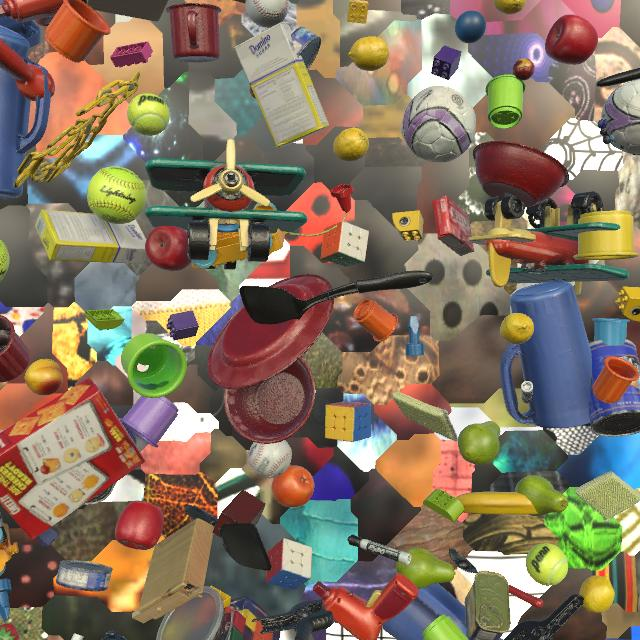ycb_002_master_chef_can: (589, 339, 640, 437), (85, 425, 136, 505)
ycb_003_cracker_box: (0, 377, 145, 540)
ycb_004_sugar_box: (234, 23, 329, 147), (35, 209, 147, 264)
ycb_007_tuna_fish_can: (56, 560, 113, 591), (291, 27, 321, 71)
ycb_009_gelatin_box: (432, 196, 474, 256)
ycb_010_potted_meat_can: (465, 570, 511, 640), (82, 0, 87, 4)
ycb_011_banana: (456, 492, 553, 514)
ycb_012_strawberry: (0, 623, 19, 640)
ycb_013_apple: (545, 14, 598, 65), (115, 500, 164, 550), (145, 226, 192, 271)
ycb_014_lemon: (348, 36, 389, 71), (579, 575, 615, 613), (333, 128, 369, 162), (500, 313, 534, 345), (493, 0, 526, 15)
ycb_015_peach: (25, 359, 63, 395)
ycb_016_pear: (396, 547, 456, 589), (515, 475, 568, 516), (458, 421, 500, 465)
ycb_017_orange: (272, 465, 314, 507)
